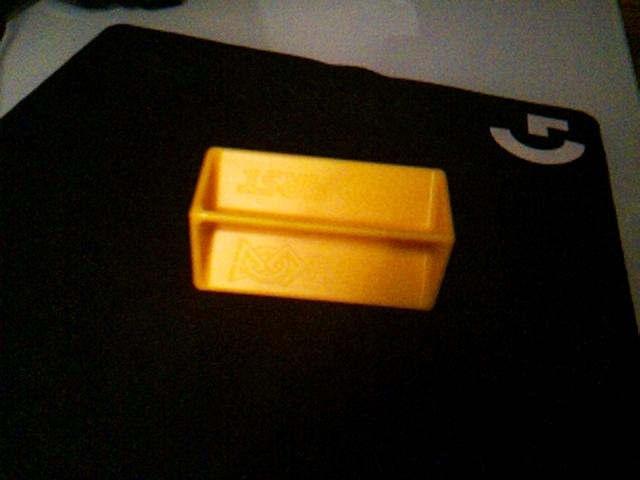yellow: (187, 144, 457, 312)
